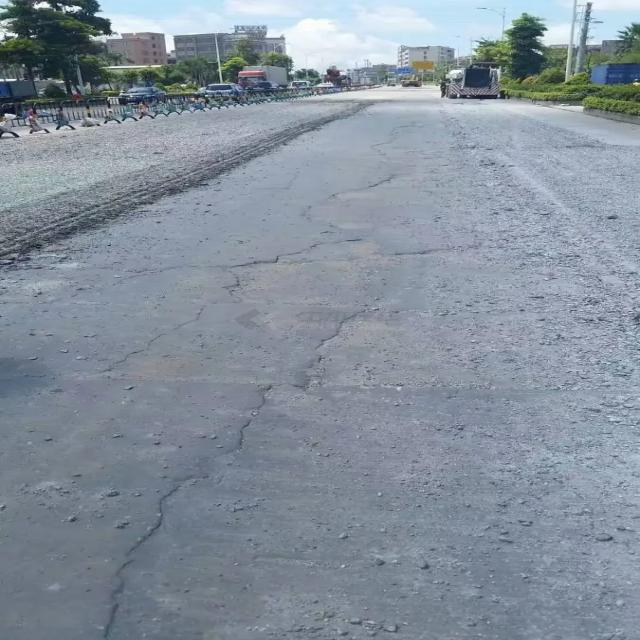Pothole: (297, 122, 485, 273)
